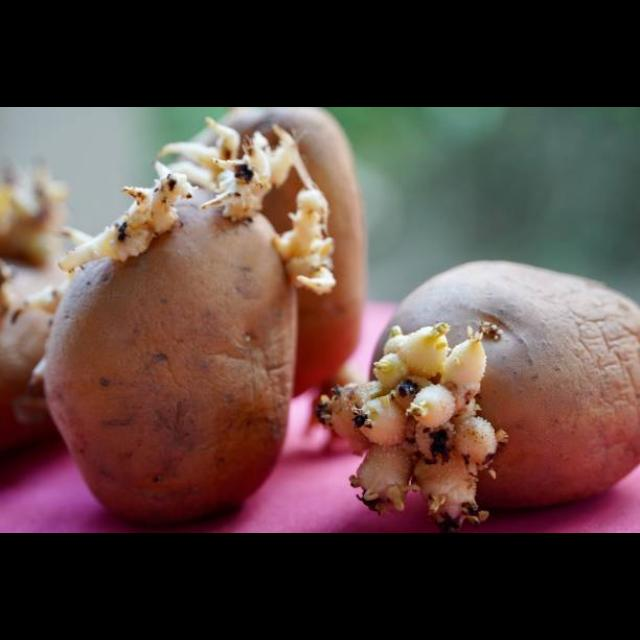Sprouted potato: (9, 109, 360, 533), (342, 256, 640, 534)
